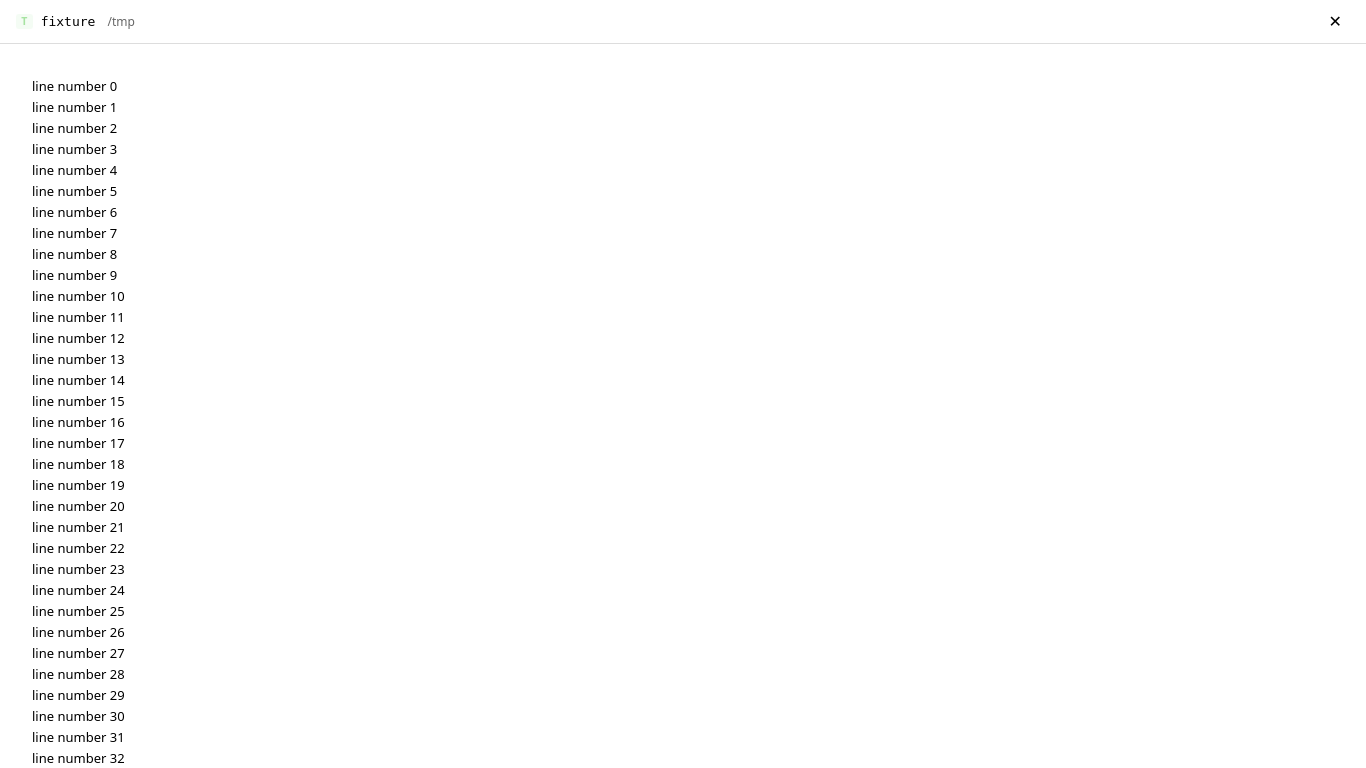
App keyboard handling › a match beyond the virtualization window (over 500 lines) is revealed and highlighted
Press f
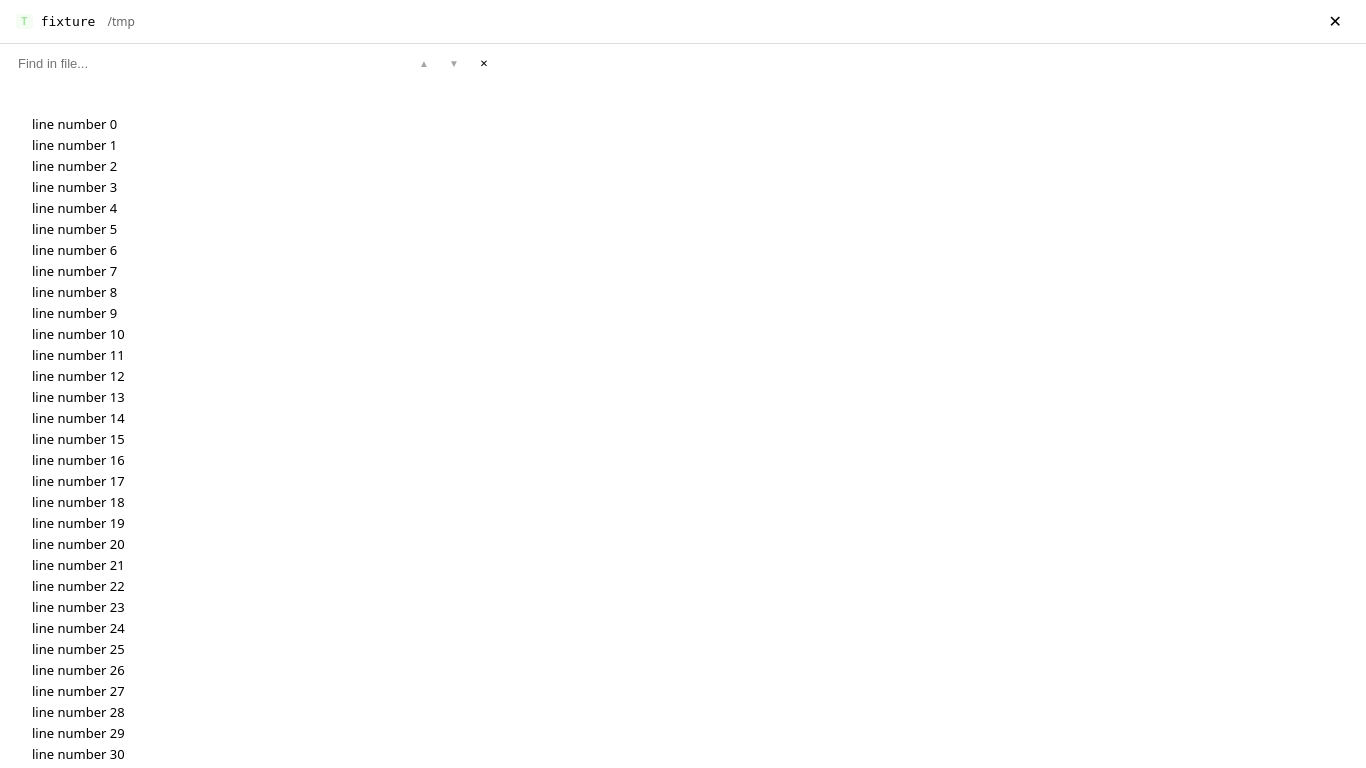
Type "needle" into the field with placeholder "Find in file..." at (170, 63), box [10,49,330,77]
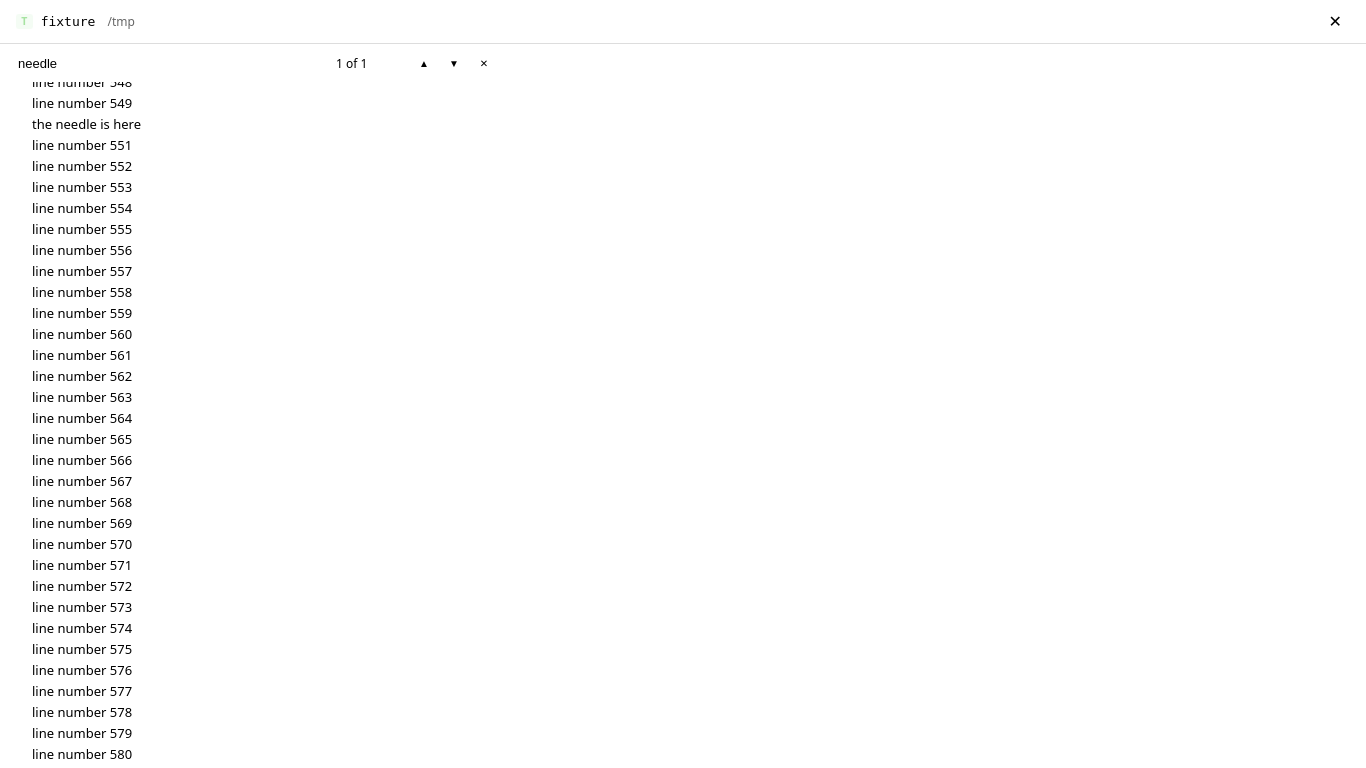
Now the text with class "search-match" reads "needle", box [56,115,97,133]
